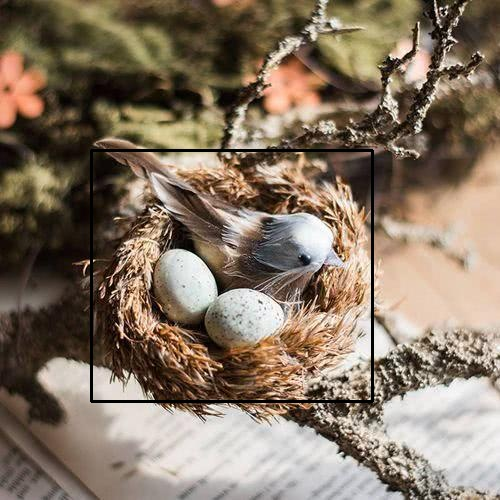bird-nest: (91, 150, 372, 401)
